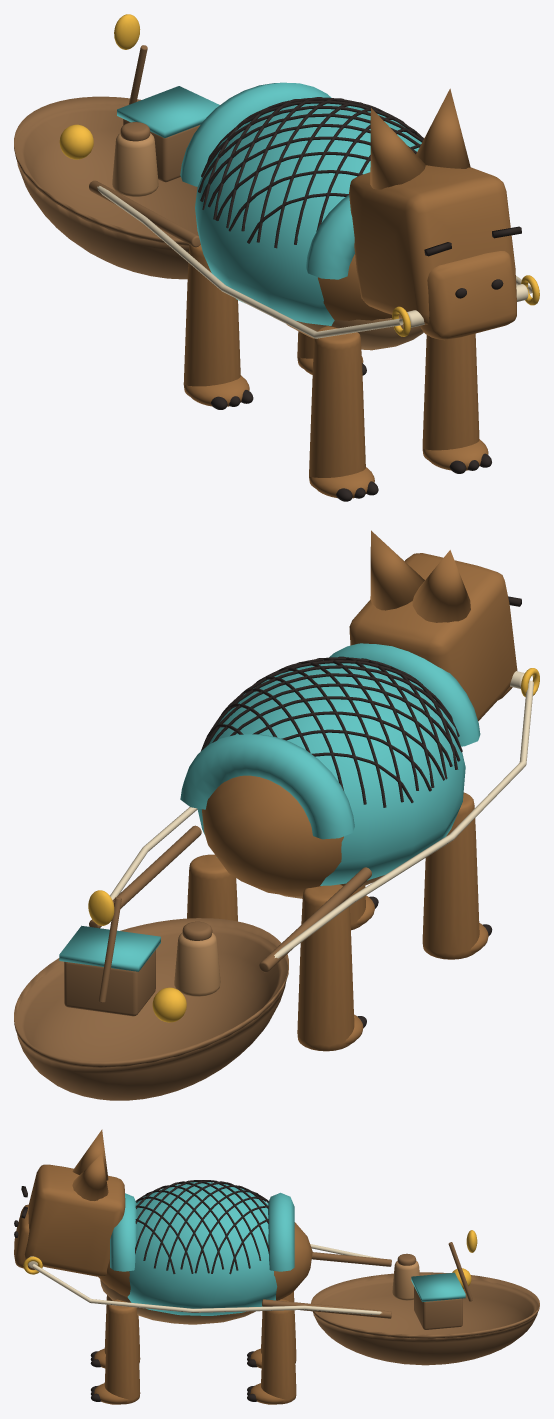
File: CapybaraTrader.fbx
The picture shows the model from 3 angles, top to bottom: view 1: azimuth 30°, elevation 25°; view 2: azimuth 150°, elevation 25°; view 3: azimuth 270°, elevation 25°; orthographic projection. The views are drawn at different scales.
Visible parts, largest first — view 1: CapybaraTrader; view 2: CapybaraTrader; view 3: CapybaraTrader.
Part boxes in pixels (x1,y1,x2,y2): CapybaraTrader: (14, 14, 539, 501); CapybaraTrader: (14, 530, 539, 1100); CapybaraTrader: (14, 1129, 539, 1404).
Size of the model in its own units: 0.9039 by 1.44 by 2.83.
